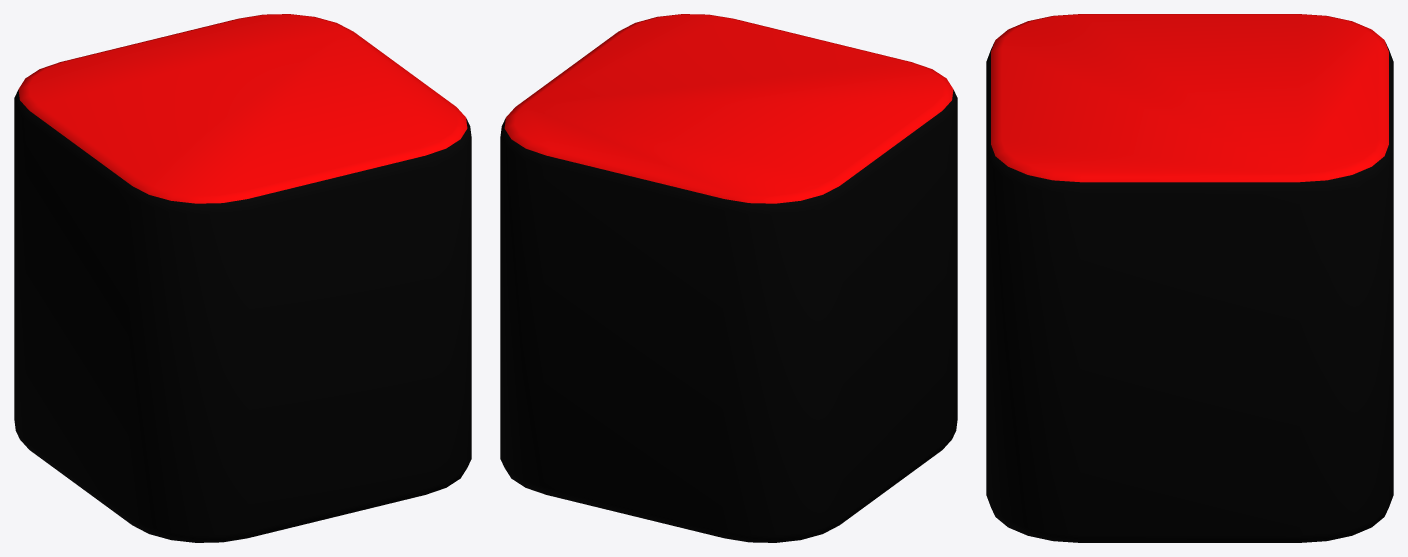
The model's file is center_piece.obj.
The picture shows the model from 3 angles, left to right: view 1: azimuth 30°, elevation 25°; view 2: azimuth 150°, elevation 25°; view 3: azimuth 270°, elevation 25°; orthographic projection. The views are drawn at different scales.
Visible parts, largest first — view 1: Cube; view 2: Cube; view 3: Cube.
Part boxes in pixels (x1,y1,x2,y2): Cube: (14,14,471,542); Cube: (500,14,957,542); Cube: (986,14,1393,542).
Bounding box in the file's own units: 2 × 2 × 2.
